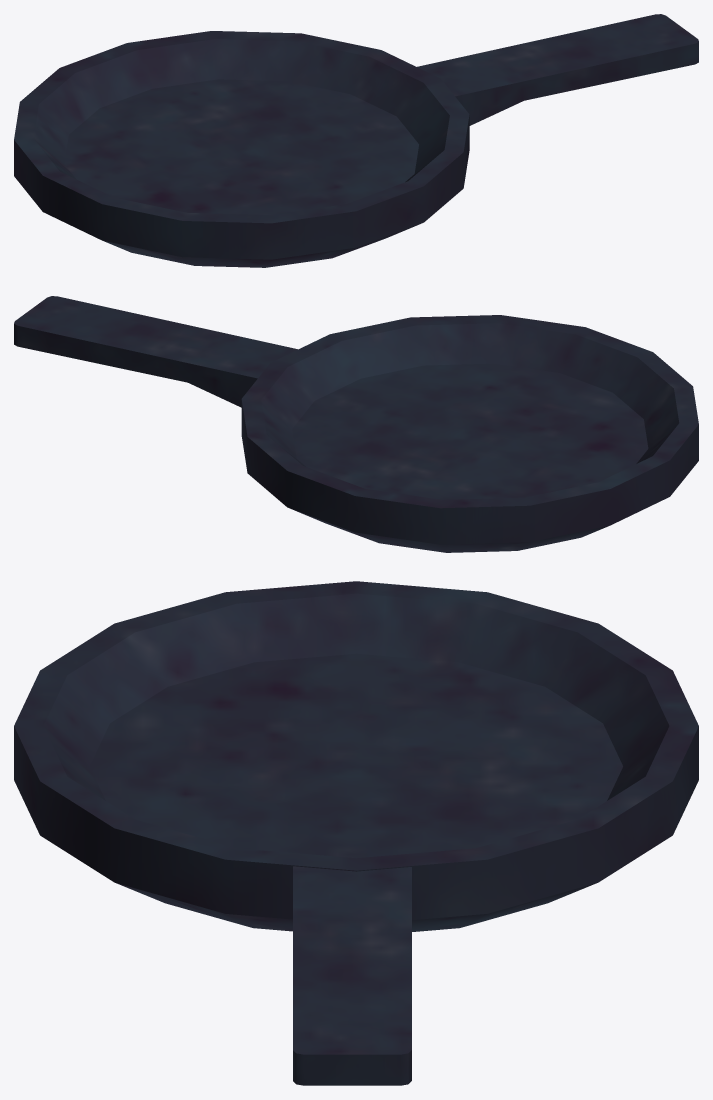
The model's file is Frying_Pan.fbx.
The picture shows the model from 3 angles, top to bottom: view 1: azimuth 30°, elevation 25°; view 2: azimuth 150°, elevation 25°; view 3: azimuth 270°, elevation 25°; orthographic projection. The views are drawn at different scales.
Visible parts, largest first — view 1: FryingPan; view 2: FryingPan; view 3: FryingPan.
Part boxes in pixels (x1,y1,x2,y2): FryingPan: [14, 14, 698, 267]; FryingPan: [14, 296, 698, 552]; FryingPan: [14, 581, 698, 1085].
Size of the model in its own units: 67.48 by 6.55 by 42.09.
